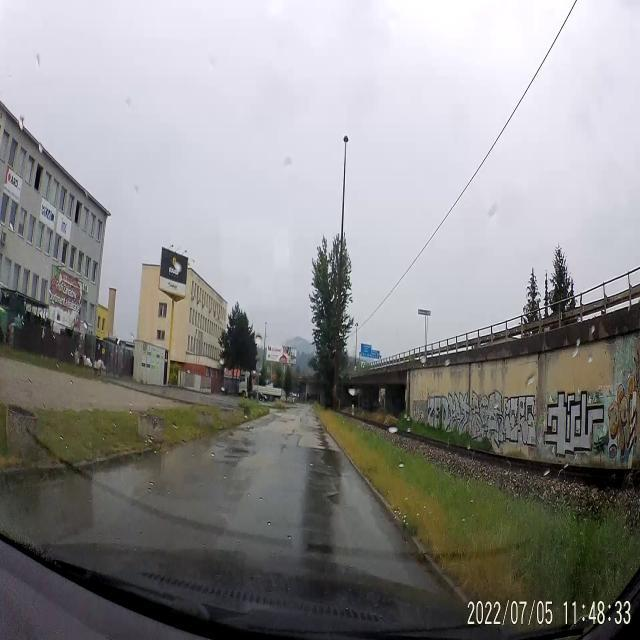Pothole: (310, 444, 342, 466), (321, 488, 347, 509), (224, 446, 256, 460), (284, 427, 298, 442), (244, 425, 254, 432), (216, 442, 224, 450), (278, 417, 286, 425)
